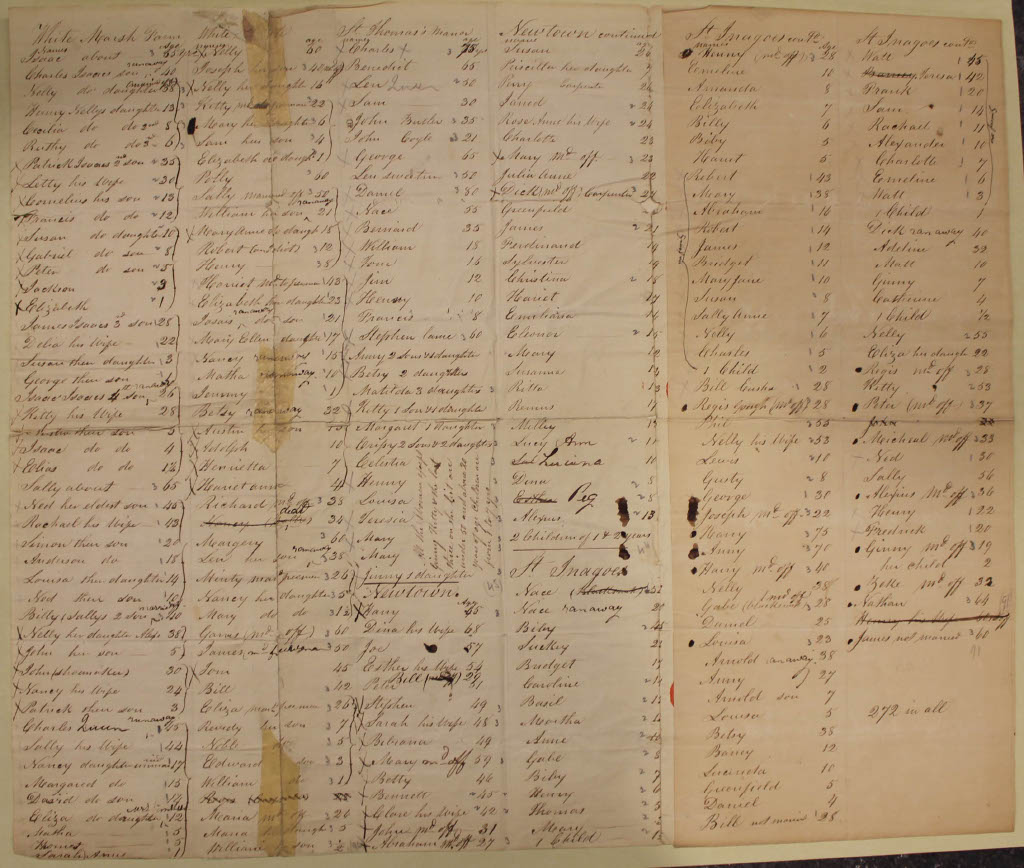Newtown: (509, 528, 654, 545), (509, 432, 595, 452), (500, 199, 573, 220), (364, 730, 430, 750), (492, 110, 564, 128), (501, 269, 571, 287), (500, 306, 574, 323), (498, 252, 570, 269), (499, 239, 584, 253), (503, 360, 568, 378), (503, 286, 559, 306), (503, 128, 559, 147), (507, 415, 556, 436), (502, 57, 558, 75), (501, 324, 563, 340), (374, 838, 440, 853), (510, 507, 565, 525), (506, 343, 557, 362), (564, 481, 600, 507), (364, 655, 410, 675), (496, 220, 546, 238), (367, 711, 411, 731), (508, 470, 549, 491), (501, 181, 544, 201), (505, 377, 548, 397), (364, 695, 414, 712), (370, 753, 419, 770), (498, 92, 550, 108), (374, 788, 432, 802), (494, 165, 536, 184), (504, 399, 557, 414), (503, 41, 552, 57), (369, 770, 414, 787), (361, 619, 401, 638), (365, 599, 402, 619), (373, 802, 410, 822), (356, 638, 391, 658), (369, 823, 411, 839), (497, 74, 535, 91), (364, 675, 403, 691), (509, 147, 543, 163), (509, 452, 538, 470)
St. Inigoes: (702, 779, 781, 799), (871, 288, 944, 308), (701, 761, 769, 781), (689, 271, 764, 289), (692, 200, 762, 219), (689, 77, 757, 96), (871, 167, 939, 186), (518, 711, 584, 730), (687, 58, 748, 78), (688, 97, 759, 114), (863, 521, 929, 539), (521, 673, 581, 692), (868, 135, 944, 150), (512, 657, 579, 674), (692, 253, 755, 271), (529, 833, 599, 849), (526, 803, 587, 821), (706, 688, 763, 707), (688, 165, 742, 185), (867, 484, 921, 504), (692, 308, 769, 322), (874, 307, 937, 324), (706, 796, 762, 815), (872, 238, 931, 256), (870, 116, 932, 133), (848, 627, 890, 652), (701, 489, 753, 509), (870, 430, 931, 447), (874, 151, 943, 166), (704, 742, 758, 761), (864, 464, 910, 486), (517, 692, 567, 712), (868, 502, 918, 522), (865, 538, 915, 558), (704, 651, 759, 669), (862, 325, 917, 343), (691, 219, 743, 238), (696, 669, 748, 688), (869, 273, 921, 292), (696, 508, 752, 525), (702, 615, 754, 633), (856, 594, 908, 612), (707, 707, 762, 724), (699, 524, 748, 543), (519, 635, 570, 653), (873, 256, 927, 273), (865, 344, 912, 363), (698, 633, 750, 650), (874, 202, 932, 217), (528, 785, 576, 803), (701, 470, 744, 490), (865, 218, 908, 238), (703, 361, 760, 376), (700, 580, 745, 599), (524, 748, 566, 768), (864, 574, 906, 594), (700, 432, 744, 451), (696, 561, 742, 579), (697, 343, 752, 358), (860, 414, 901, 434), (697, 451, 740, 470), (861, 377, 904, 396), (532, 821, 586, 836), (705, 724, 747, 743), (515, 618, 559, 636), (695, 238, 740, 255), (515, 582, 556, 600), (526, 767, 569, 784), (687, 130, 730, 147), (861, 82, 913, 96), (693, 149, 744, 163), (696, 324, 737, 341), (702, 543, 745, 559), (698, 598, 738, 615), (863, 396, 900, 414), (526, 731, 570, 746), (702, 46, 748, 60), (689, 113, 729, 129), (692, 289, 734, 304), (918, 65, 955, 82), (698, 414, 732, 432), (865, 97, 903, 113), (513, 601, 553, 616), (696, 186, 738, 200), (872, 187, 910, 202), (874, 448, 908, 464), (860, 48, 893, 64), (695, 379, 729, 394), (863, 363, 902, 376), (880, 557, 904, 575)
St. Thomas: (347, 55, 415, 74), (355, 418, 423, 435), (354, 289, 411, 308), (357, 489, 414, 508), (355, 146, 405, 167), (357, 219, 420, 235), (355, 470, 408, 489), (357, 309, 416, 326), (353, 382, 414, 398), (346, 109, 390, 130), (355, 453, 409, 470), (360, 237, 416, 253), (359, 327, 415, 343), (349, 37, 396, 56), (352, 435, 399, 454), (357, 510, 410, 526), (356, 183, 404, 200), (361, 565, 406, 583), (347, 74, 389, 93), (357, 253, 399, 271), (359, 546, 403, 563), (349, 344, 388, 363), (356, 528, 397, 546), (349, 365, 392, 382), (356, 201, 396, 219), (345, 128, 384, 146), (349, 91, 387, 109), (357, 271, 394, 289), (351, 400, 391, 415), (349, 163, 377, 183)
White Marsh: (196, 475, 281, 495), (195, 289, 264, 311), (197, 494, 268, 514), (24, 773, 98, 792), (193, 329, 270, 347), (196, 531, 264, 551), (201, 751, 264, 772), (198, 456, 271, 473), (20, 512, 81, 532), (24, 297, 90, 315), (201, 803, 257, 824), (197, 149, 262, 167), (206, 838, 267, 857), (195, 223, 266, 239), (200, 772, 258, 791), (192, 383, 249, 402), (190, 59, 246, 78), (25, 192, 89, 208), (21, 552, 88, 567), (19, 46, 68, 66), (199, 274, 256, 291), (198, 622, 249, 641), (195, 717, 246, 736), (192, 257, 248, 274), (19, 532, 69, 551), (23, 369, 68, 390), (21, 754, 73, 772), (22, 279, 77, 296), (19, 315, 68, 334), (196, 641, 245, 660), (197, 205, 255, 221), (21, 209, 75, 226), (197, 588, 248, 606), (22, 717, 72, 735), (197, 239, 247, 257), (23, 155, 75, 172), (21, 700, 73, 717), (197, 114, 239, 135), (18, 351, 64, 370), (19, 437, 64, 456), (198, 697, 243, 716), (194, 568, 244, 585), (200, 514, 253, 530), (33, 850, 126, 859), (21, 137, 70, 154), (23, 569, 75, 585), (197, 439, 252, 454), (26, 246, 74, 263), (196, 348, 244, 365), (203, 824, 251, 841), (197, 366, 247, 382), (20, 736, 67, 753), (192, 402, 239, 419), (23, 103, 65, 122), (20, 475, 62, 494), (25, 824, 78, 839), (22, 82, 58, 104), (27, 807, 73, 824), (25, 64, 68, 82), (192, 310, 237, 327), (194, 94, 234, 113), (193, 168, 235, 186), (21, 120, 68, 136), (199, 421, 246, 437), (25, 793, 75, 808), (192, 78, 233, 96), (20, 425, 69, 440), (21, 335, 64, 352), (20, 405, 58, 424), (20, 681, 65, 697), (18, 606, 60, 623), (193, 187, 235, 204), (20, 457, 59, 475), (204, 735, 243, 753), (22, 174, 63, 191), (24, 227, 67, 243), (206, 42, 244, 60), (199, 605, 239, 622), (198, 679, 234, 697), (14, 390, 60, 404), (31, 838, 83, 850), (22, 263, 60, 279), (23, 625, 61, 641), (200, 660, 232, 679), (199, 548, 230, 566), (23, 496, 55, 513), (23, 644, 54, 660), (25, 589, 58, 604), (21, 663, 51, 679), (197, 133, 228, 148)
